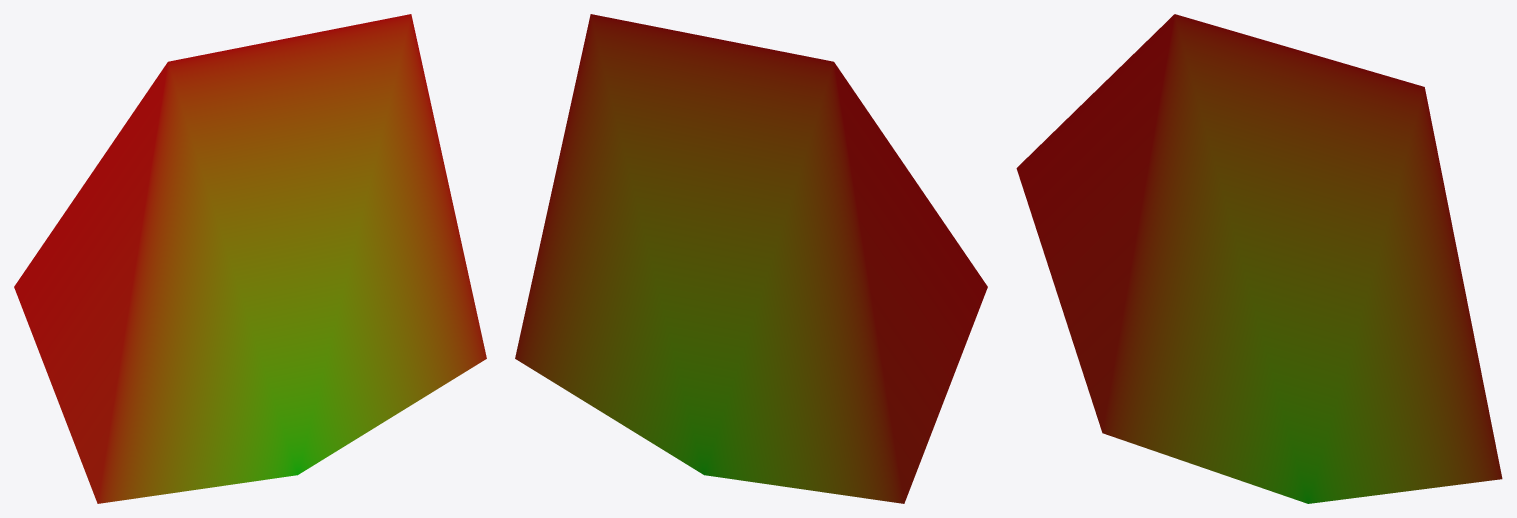
Rendered from European Spindle_LOD4_Var3.fbx.
The picture shows the model from 3 angles, left to right: view 1: azimuth 30°, elevation 25°; view 2: azimuth 150°, elevation 25°; view 3: azimuth 330°, elevation 25°; orthographic projection. The views are drawn at different scales.
Visible parts, largest first — view 1: _vhrq_Var3_LOD4; view 2: _vhrq_Var3_LOD4; view 3: _vhrq_Var3_LOD4.
Part boxes in pixels (box(x1,y1,x2,y2)): _vhrq_Var3_LOD4: box(14, 14, 486, 503); _vhrq_Var3_LOD4: box(515, 14, 987, 503); _vhrq_Var3_LOD4: box(1016, 14, 1502, 503).
Bounding box in the file's own units: 28.1 × 25.27 × 0.
